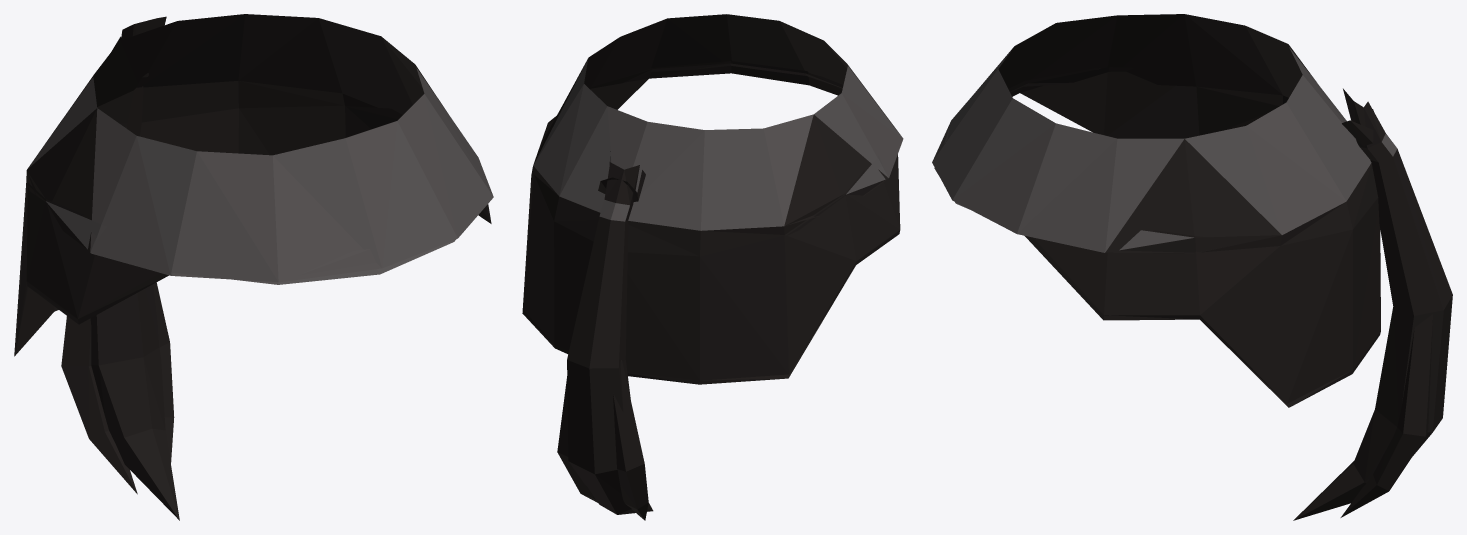
File: hair_ponytail_high_01_hatcut.glb
3 views of the same model, side by side, from view 1: azimuth 30°, elevation 25°; view 2: azimuth 150°, elevation 25°; view 3: azimuth 270°, elevation 25° (orthographic). The views are drawn at different scales.
Visible parts, largest first — view 1: hair_ponytail_high_01_hatcut; view 2: hair_ponytail_high_01_hatcut; view 3: hair_ponytail_high_01_hatcut.
Boxes of the visible parts, box(x1,y1,x2,y2) form: hair_ponytail_high_01_hatcut: box(14, 14, 493, 520); hair_ponytail_high_01_hatcut: box(522, 14, 903, 520); hair_ponytail_high_01_hatcut: box(932, 14, 1452, 520).
Bounding box in the file's own units: 0.2627 × 0.3044 × 0.317.
1 material, 1 textured.
